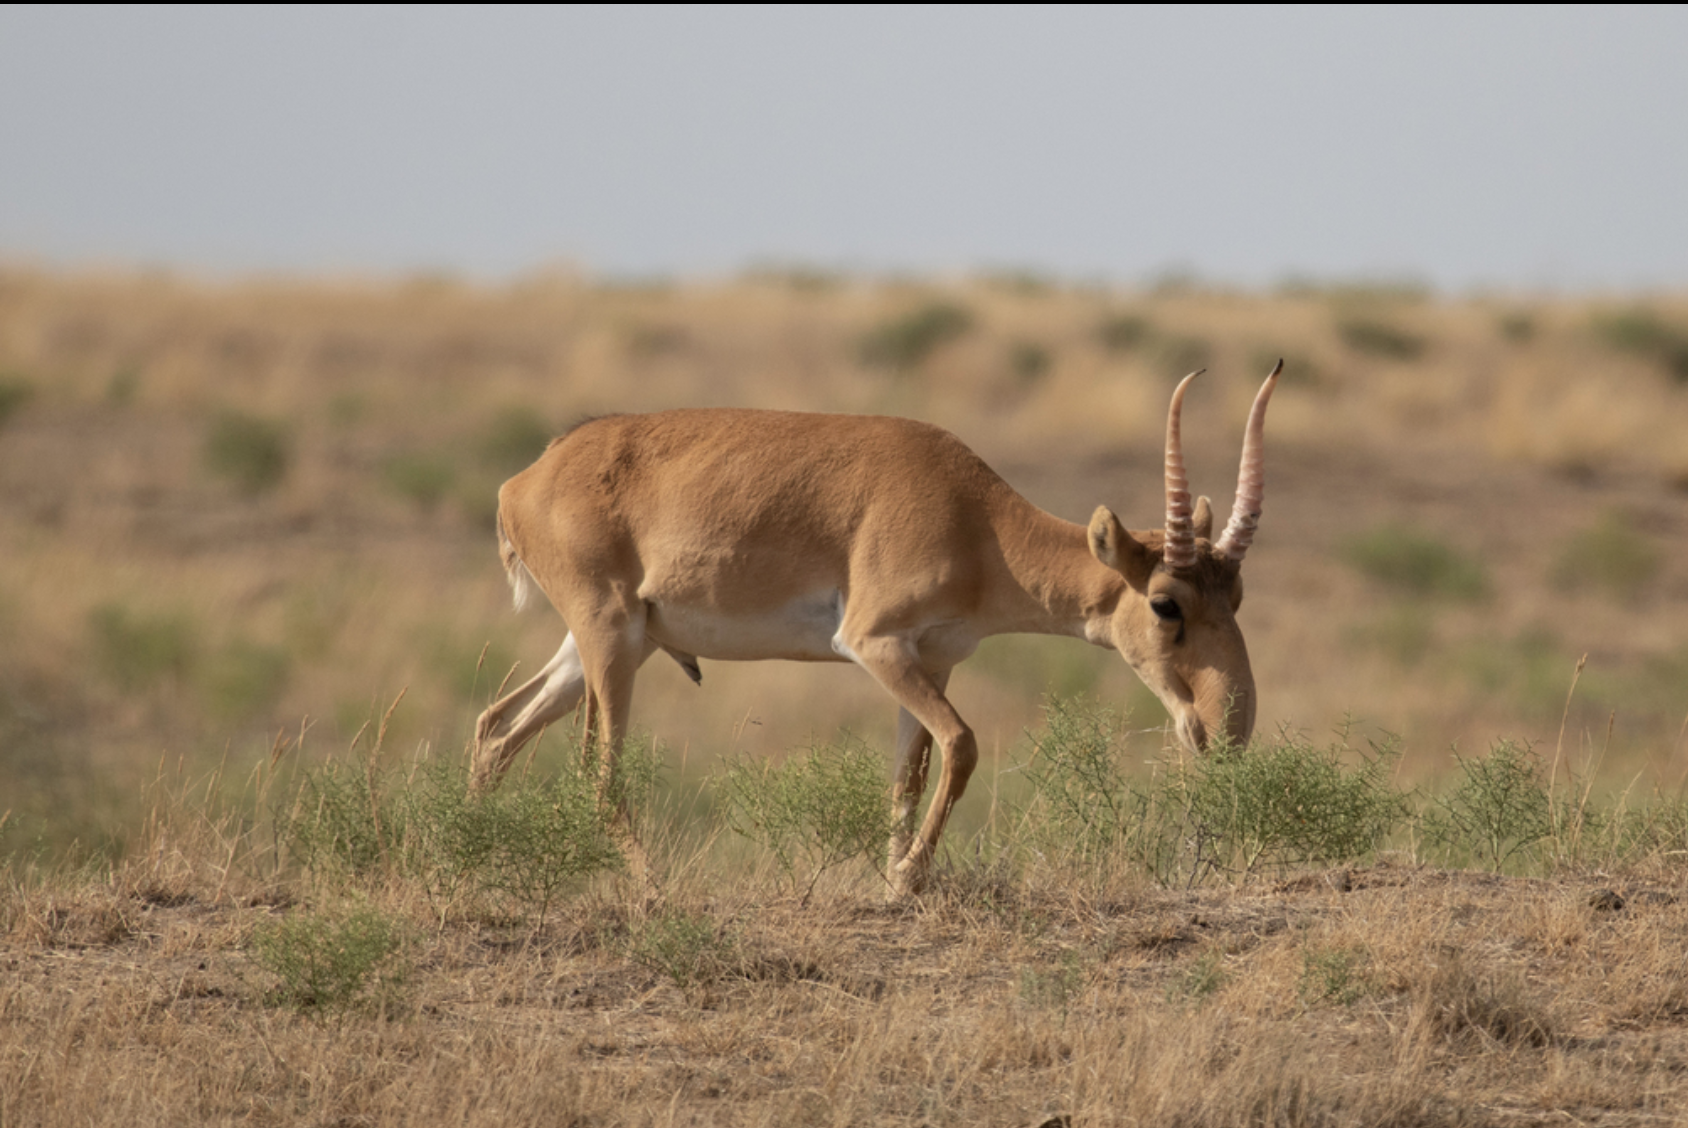saiga: (472, 354, 1288, 916)
